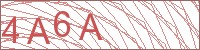4: (1, 15, 20, 44)
6: (53, 9, 71, 38)
A: (77, 12, 104, 42), (26, 17, 50, 46)
